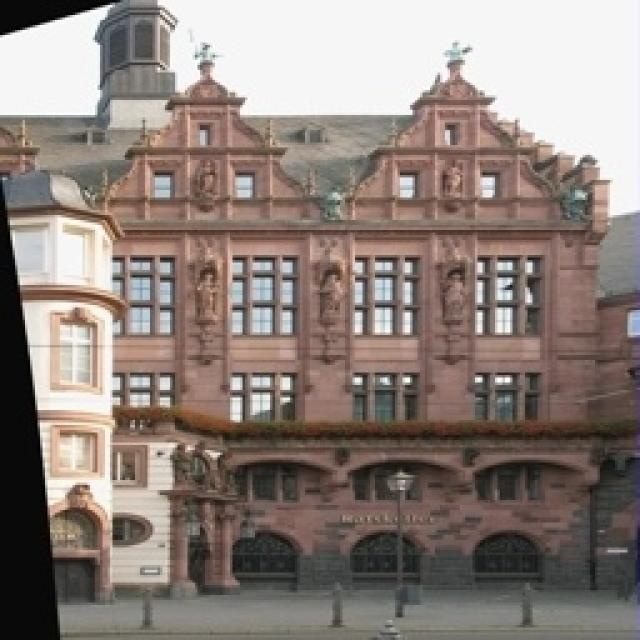building: (110, 95, 612, 583)
